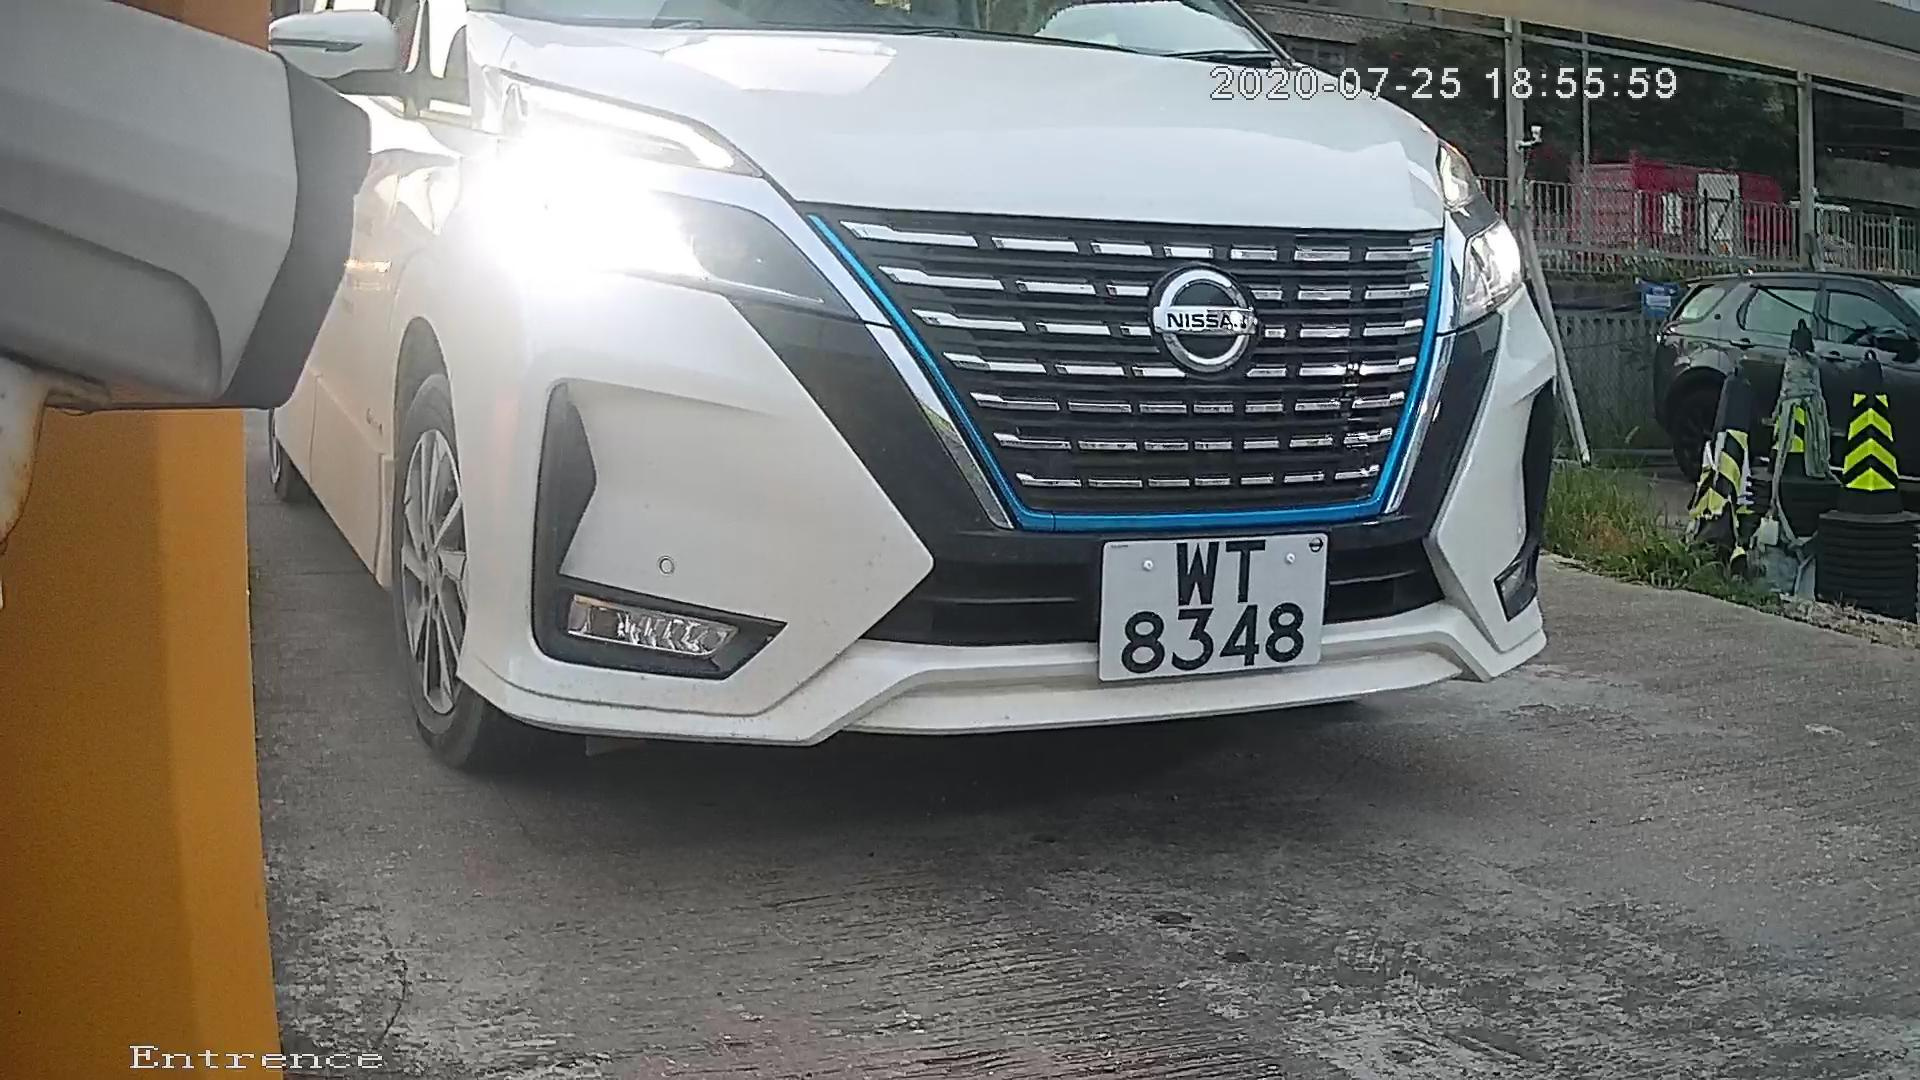License Plate: (1072, 507, 1355, 709)
